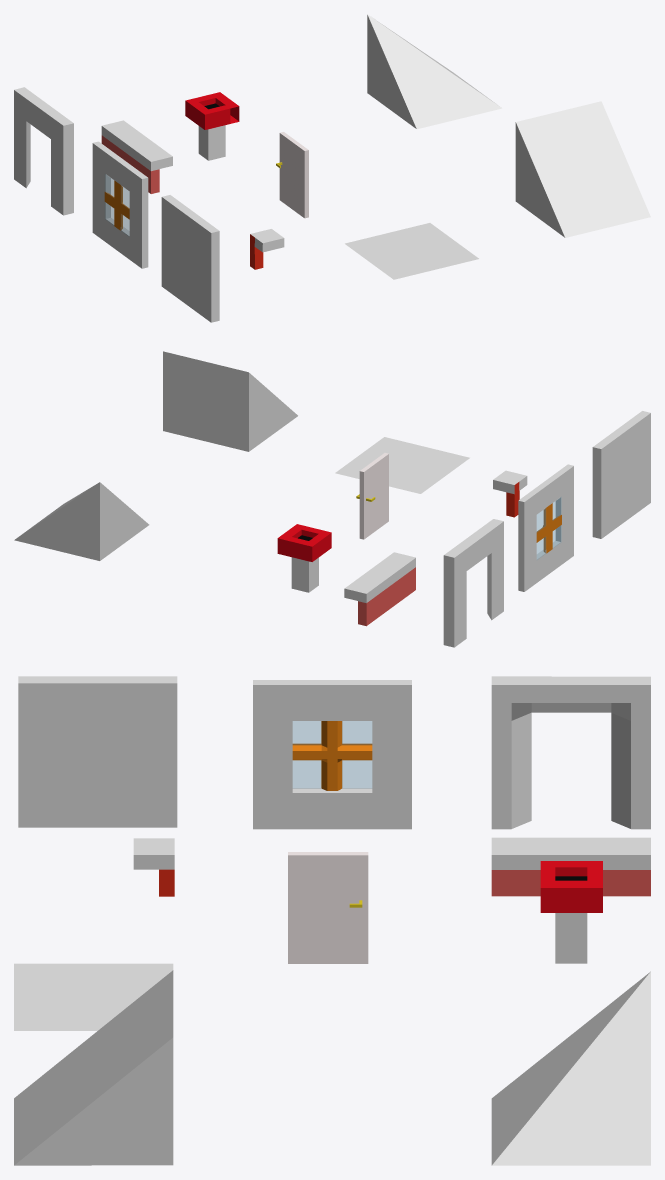
The model's file is HouseFlatsProps.fbx.
3 views of the same model, one above another, from view 1: azimuth 30°, elevation 25°; view 2: azimuth 150°, elevation 25°; view 3: azimuth 270°, elevation 25° (orthographic). The views are drawn at different scales.
Visible parts, largest first — view 1: Plane, Toit, Mur, Fenêtre, Murré, SOL, Dessus de mur, Cheminée, Porte, Coin de murré; view 2: Plane, Mur, Toit, Fenêtre, Murré, SOL, Dessus de mur, Cheminée, Porte, Coin de murré; view 3: Mur, Fenêtre, Plane, Toit, Murré, Porte, SOL, Dessus de mur, Cheminée, Coin de murré.
Part boxes in pixels (left/top/right/bottom): Plane: left=515, top=101, right=650, bottom=237; Toit: left=367, top=14, right=501, bottom=129; Mur: left=161, top=195, right=219, bottom=322; Fenêtre: left=92, top=141, right=148, bottom=268; Murré: left=14, top=87, right=73, bottom=215; SOL: left=345, top=223, right=478, bottom=279; Dessus de mur: left=101, top=120, right=172, bottom=193; Cheminée: left=185, top=92, right=239, bottom=160; Porte: left=276, top=132, right=308, bottom=218; Coin de murré: left=250, top=229, right=284, bottom=269; Plane: left=163, top=351, right=297, bottom=451; Mur: left=592, top=411, right=650, bottom=538; Toit: left=14, top=482, right=149, bottom=560; Fenêtre: left=518, top=464, right=573, bottom=591; Murré: left=443, top=519, right=503, bottom=647; SOL: left=335, top=437, right=469, bottom=493; Dessus de mur: left=344, top=552, right=415, bottom=626; Cheminée: left=277, top=524, right=331, bottom=592; Porte: left=356, top=453, right=388, bottom=539; Coin de murré: left=493, top=470, right=527, bottom=517; Mur: left=18, top=676, right=177, bottom=827; Fenêtre: left=253, top=680, right=411, bottom=829; Plane: left=14, top=970, right=173, bottom=1165; Toit: left=491, top=971, right=650, bottom=1165; Murré: left=491, top=676, right=650, bottom=829; Porte: left=288, top=852, right=368, bottom=963; SOL: left=14, top=963, right=173, bottom=1030; Dessus de mur: left=491, top=837, right=650, bottom=896; Cheminée: left=540, top=861, right=602, bottom=963; Coin de murré: left=133, top=838, right=174, bottom=896.
Size of the model in its own units: 5123 by 1005 by 4000.
